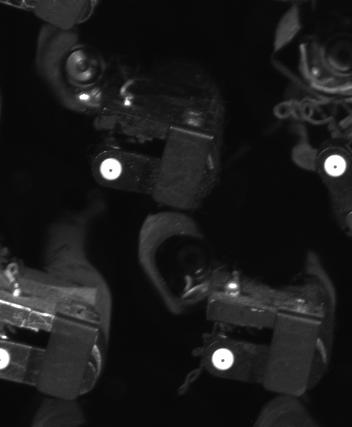fiber: (91, 153, 131, 187), (207, 343, 241, 376), (319, 149, 352, 183)
